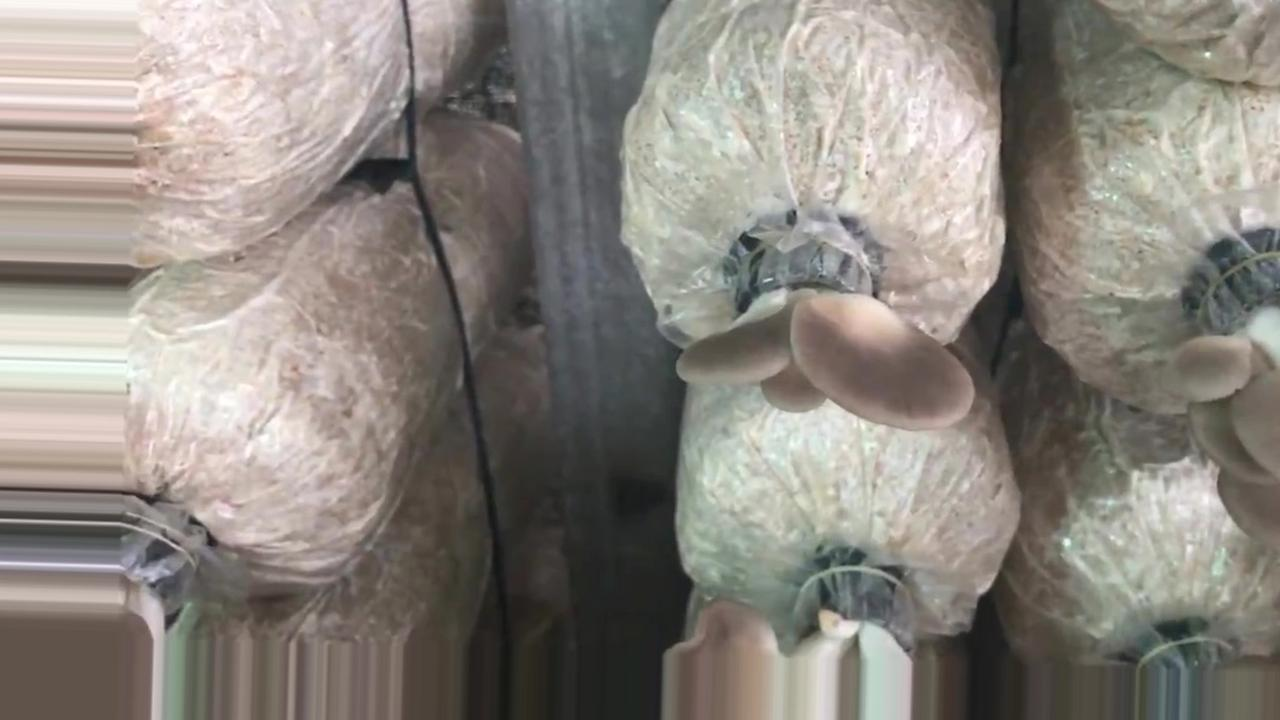nam: (691, 224, 957, 424), (1202, 252, 1280, 522)
